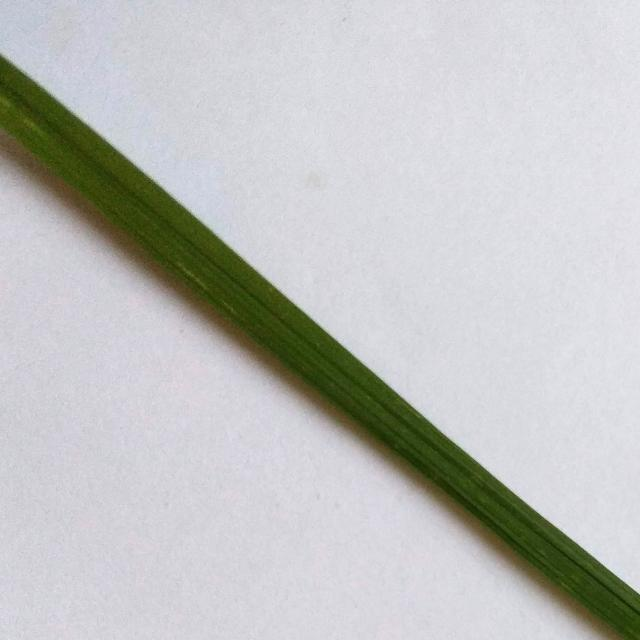Rice_Healthy: (0, 56, 640, 640)
